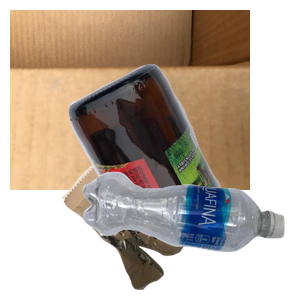cardboard: (10, 10, 250, 190)
glass: (66, 61, 300, 241)
plastic: (80, 169, 300, 300)
trash: (59, 124, 273, 300)
